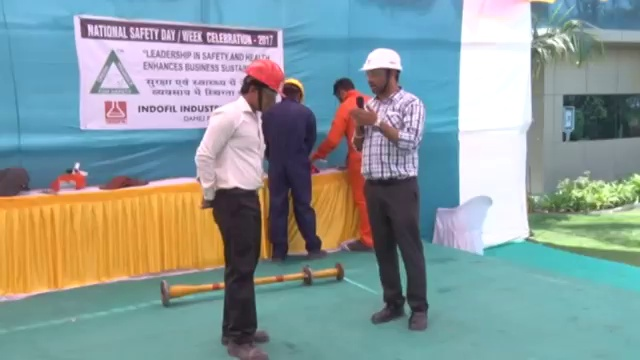helmet: (244, 58, 287, 99), (355, 45, 405, 75), (283, 76, 306, 98)
helmet_off: (332, 77, 356, 107)
helmet_on: (235, 57, 286, 116), (354, 45, 406, 102), (278, 74, 307, 107)
person: (191, 58, 285, 360), (353, 45, 432, 332), (263, 79, 328, 263), (309, 78, 375, 248)
